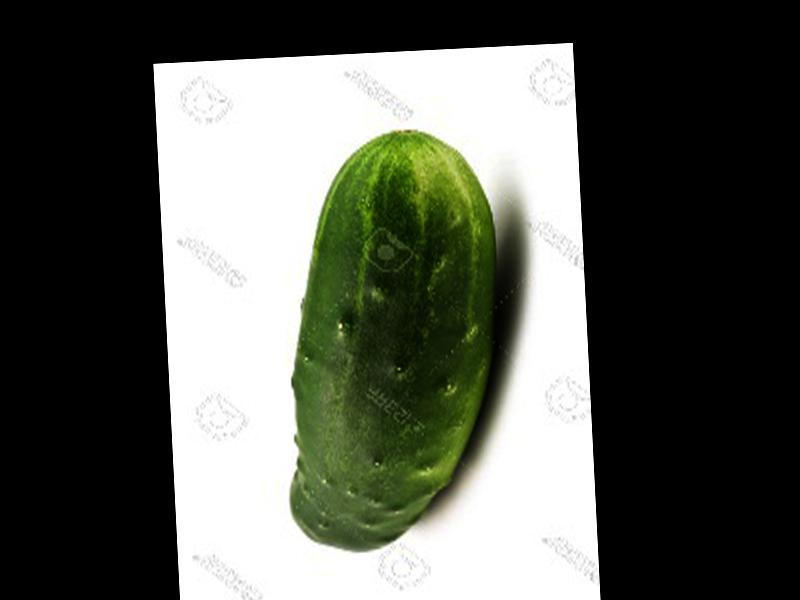Cucumber: (272, 125, 512, 555)
